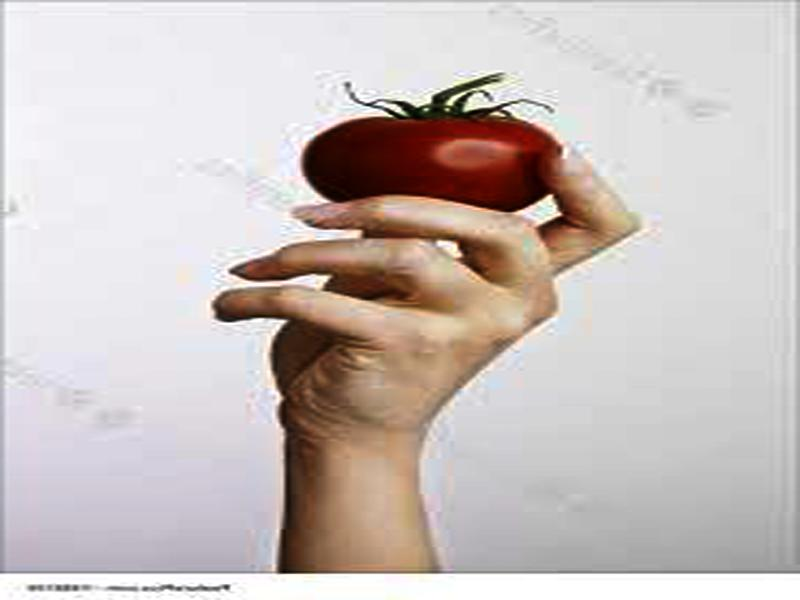Tomato: (306, 75, 557, 210)
